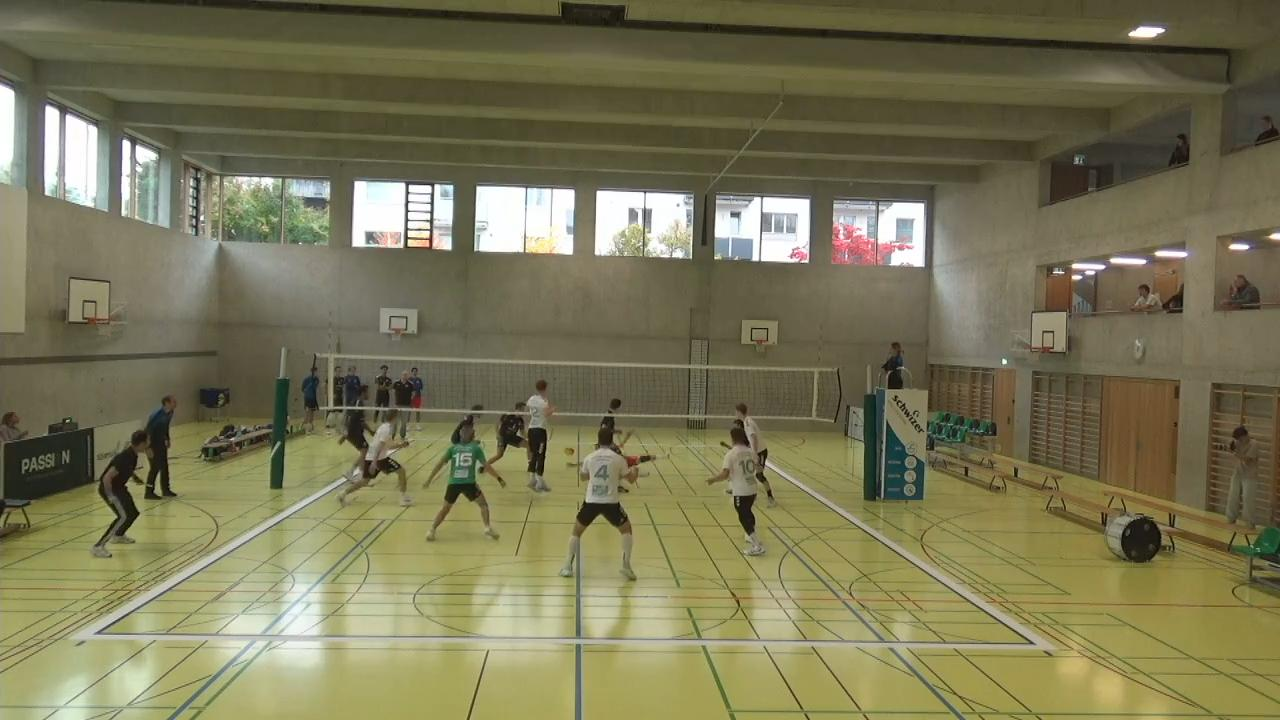difesa: (558, 447, 677, 477)
